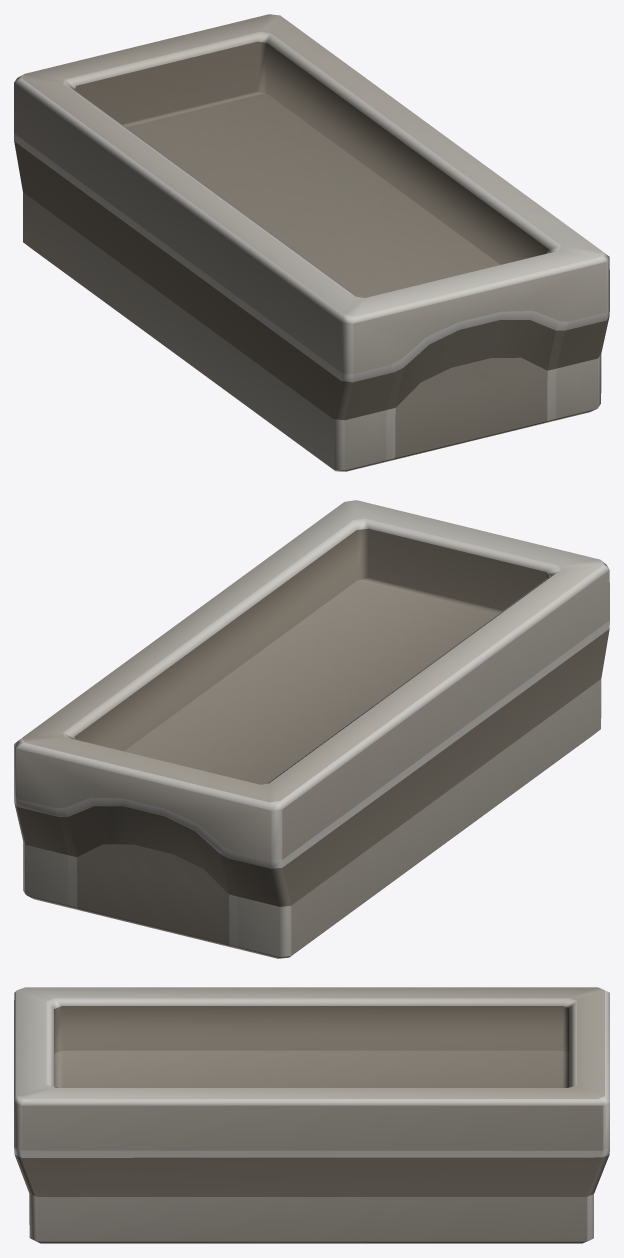
File: appartment_type1_roof_type1_x2.fbx
The picture shows the model from 3 angles, top to bottom: view 1: azimuth 30°, elevation 25°; view 2: azimuth 150°, elevation 25°; view 3: azimuth 270°, elevation 25°; orthographic projection. The views are drawn at different scales.
Parts seen in each view (by area): view 1: appartment_type1_roof_type1_x2; view 2: appartment_type1_roof_type1_x2; view 3: appartment_type1_roof_type1_x2.
Boxes of the visible parts, bbox=[...] form: appartment_type1_roof_type1_x2: bbox=[14, 14, 609, 471]; appartment_type1_roof_type1_x2: bbox=[14, 500, 609, 958]; appartment_type1_roof_type1_x2: bbox=[14, 987, 609, 1243].
Bounding box in the file's own units: 400 × 232 × 867.
